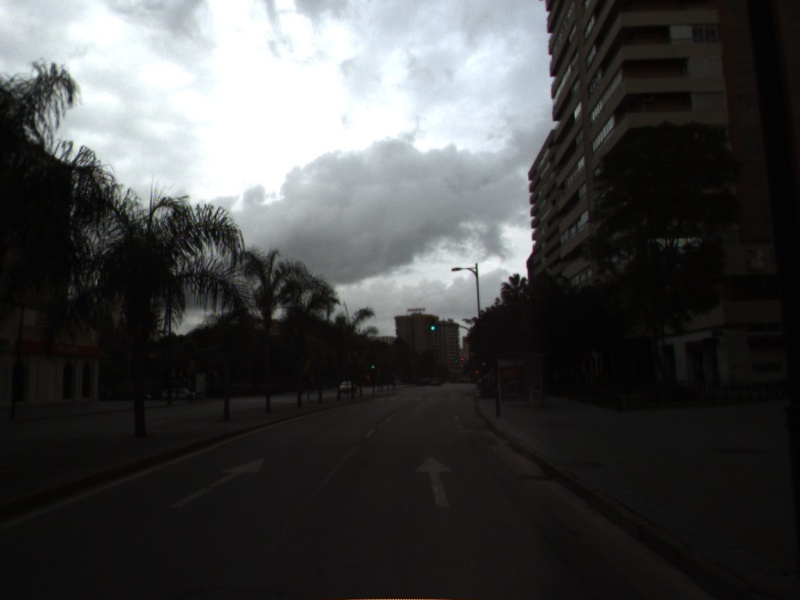STRAIGHT: (165, 455, 268, 511), (412, 453, 457, 510)
